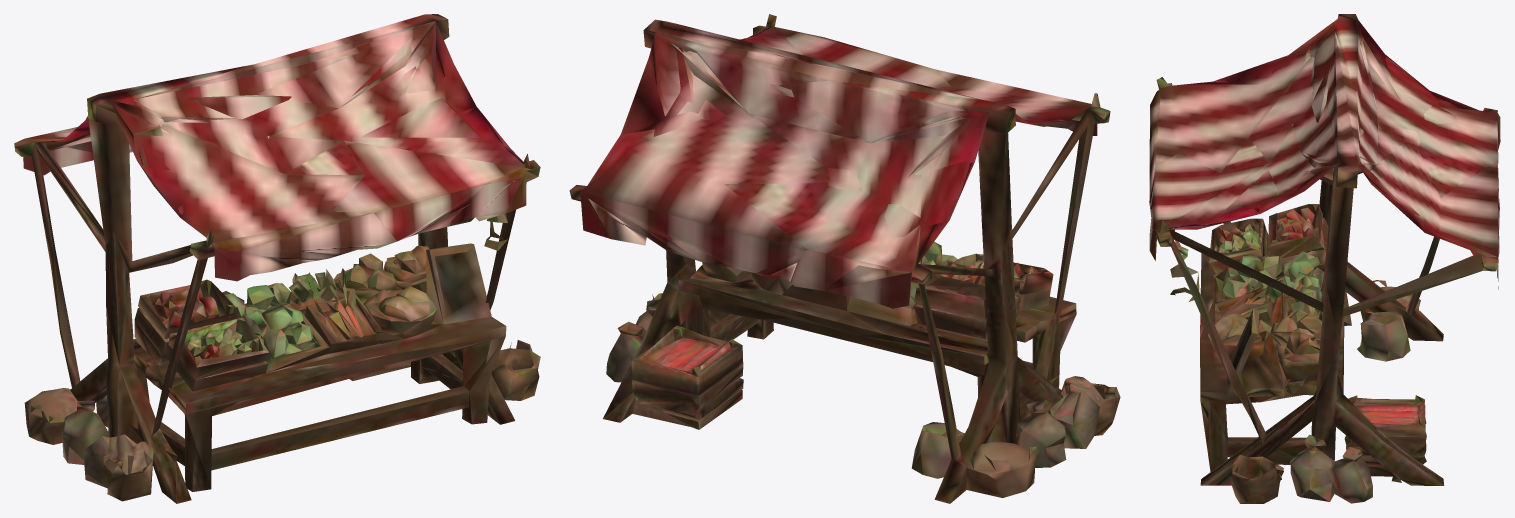
Rendered from stall_produce_lod1.glb.
3 renders of one model, left to right at view 1: azimuth 30°, elevation 25°; view 2: azimuth 150°, elevation 25°; view 3: azimuth 270°, elevation 25°, orthographic. The views are drawn at different scales.
Visible parts, largest first — view 1: output_unwrapped; view 2: output_unwrapped; view 3: output_unwrapped.
Part boxes in pixels (bbox=[...]): output_unwrapped: bbox=[14, 14, 540, 503]; output_unwrapped: bbox=[569, 14, 1120, 503]; output_unwrapped: bbox=[1149, 14, 1500, 503].
Size of the model in its own units: 1.9 by 1.43 by 1.42.
Materials: 1 (1 with a texture image).
